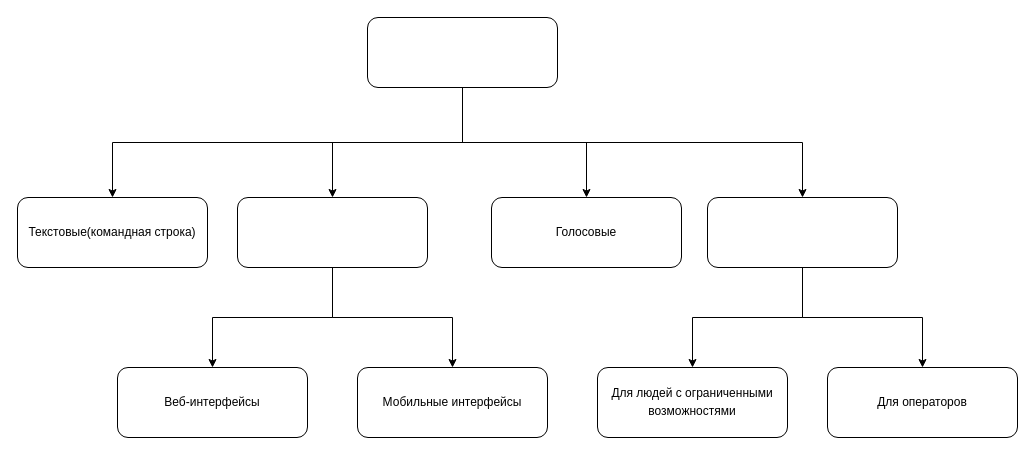
The diagram is 1035 pixels wide and 455 high, and some of its shapes have lost their labels. Here are the shapes that lost their labels. From the top down, the centre of each, then its label:
(x=462, y=52): Пользовательские интерфесы
(x=332, y=232): Графические
(x=802, y=232): Альтернативные
